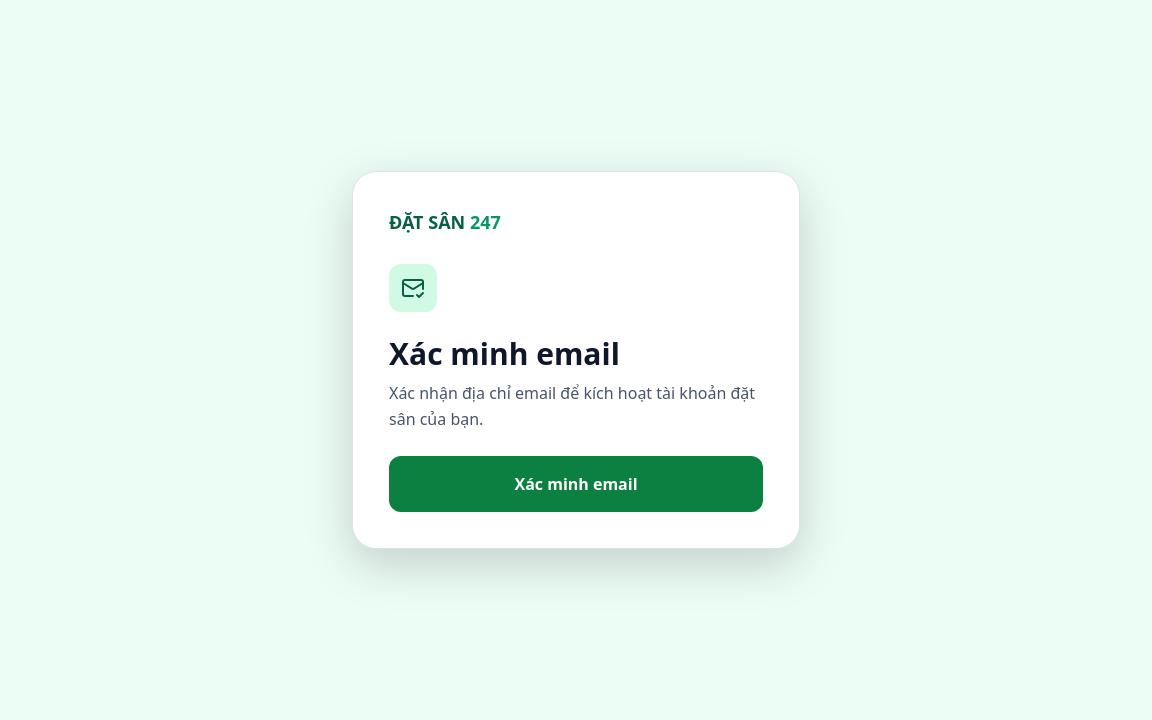
Test case: email verification page › submits a token once on confirmation and links to login after 204
Click the button "Xác minh email" at x=576, y=484, box x1=389 y1=456 x2=763 y2=512
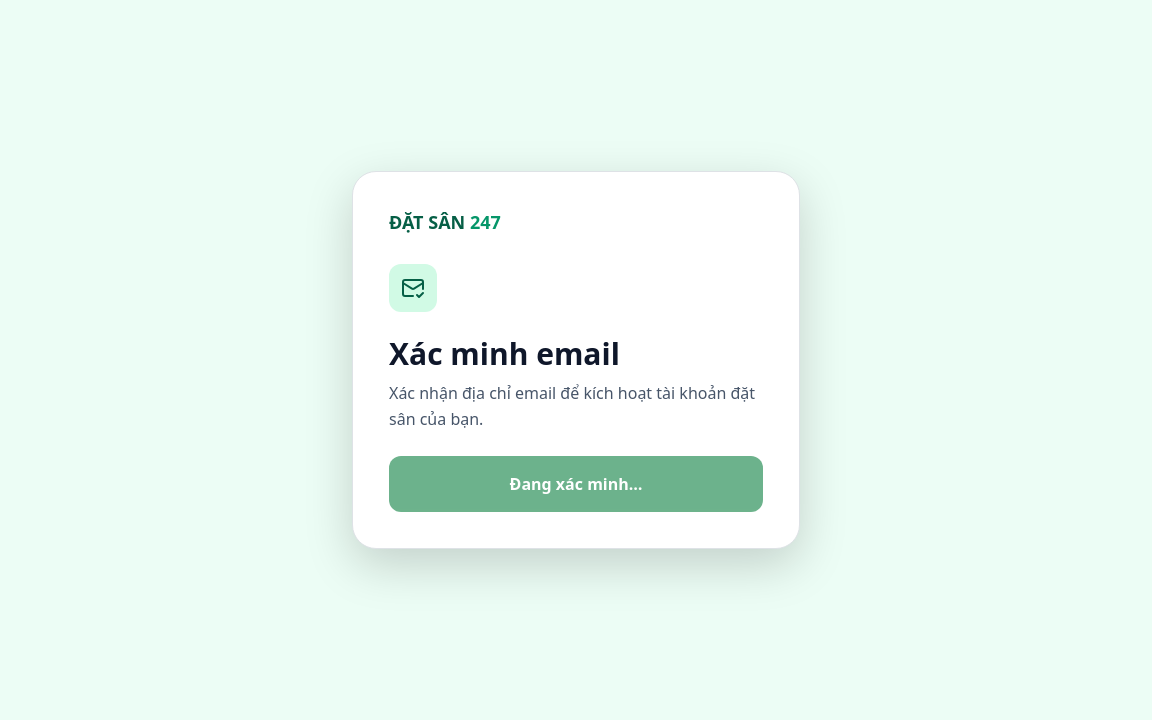
Click the button named "Xác minh email" at x=576, y=484, box x1=389 y1=456 x2=763 y2=512
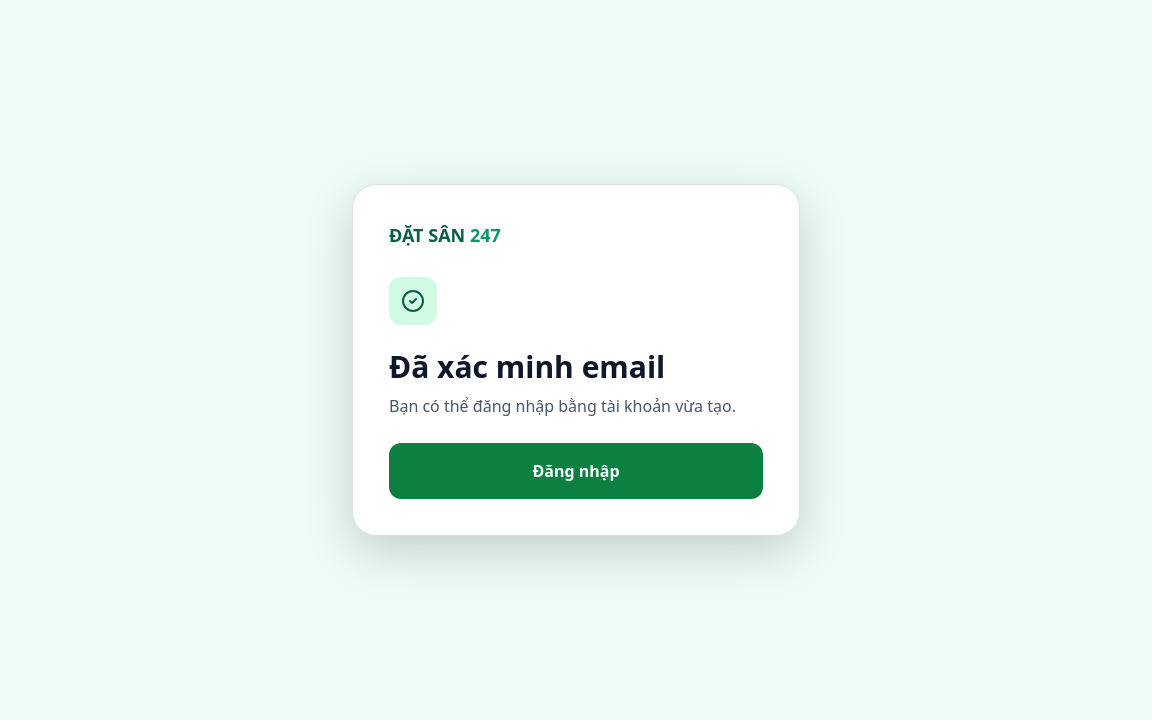
Now the heading "Đã xác minh email" is shown, box x1=389 y1=346 x2=665 y2=387
Click the link "Đăng nhập" at x=576, y=471, box x1=389 y1=443 x2=763 y2=499
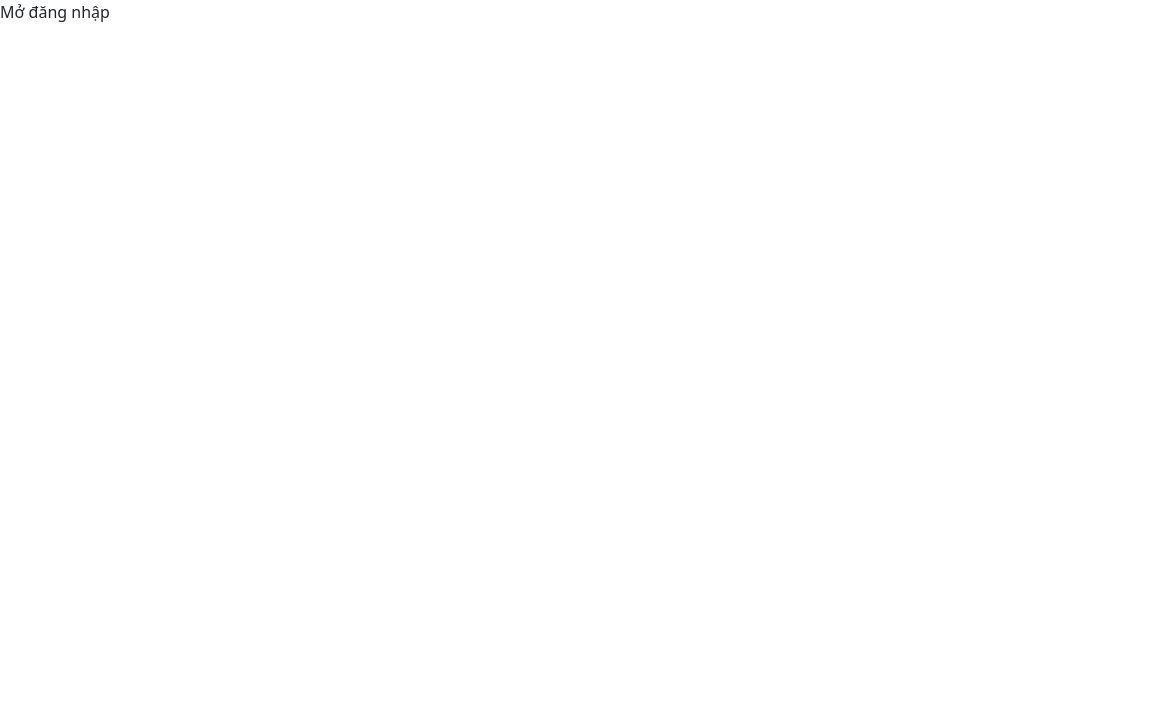
Now the text "Mở đăng nhập" is shown, box x1=0 y1=1 x2=110 y2=23
